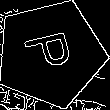P_E: (21, 30, 80, 78)
